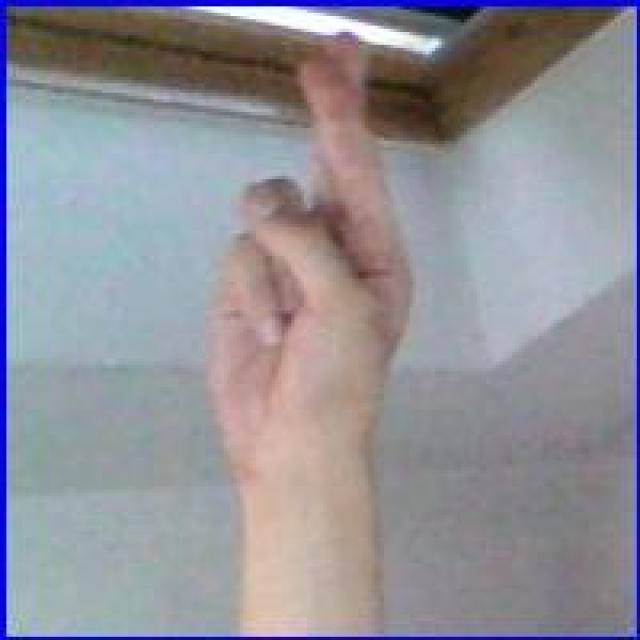R: (194, 22, 424, 496)
